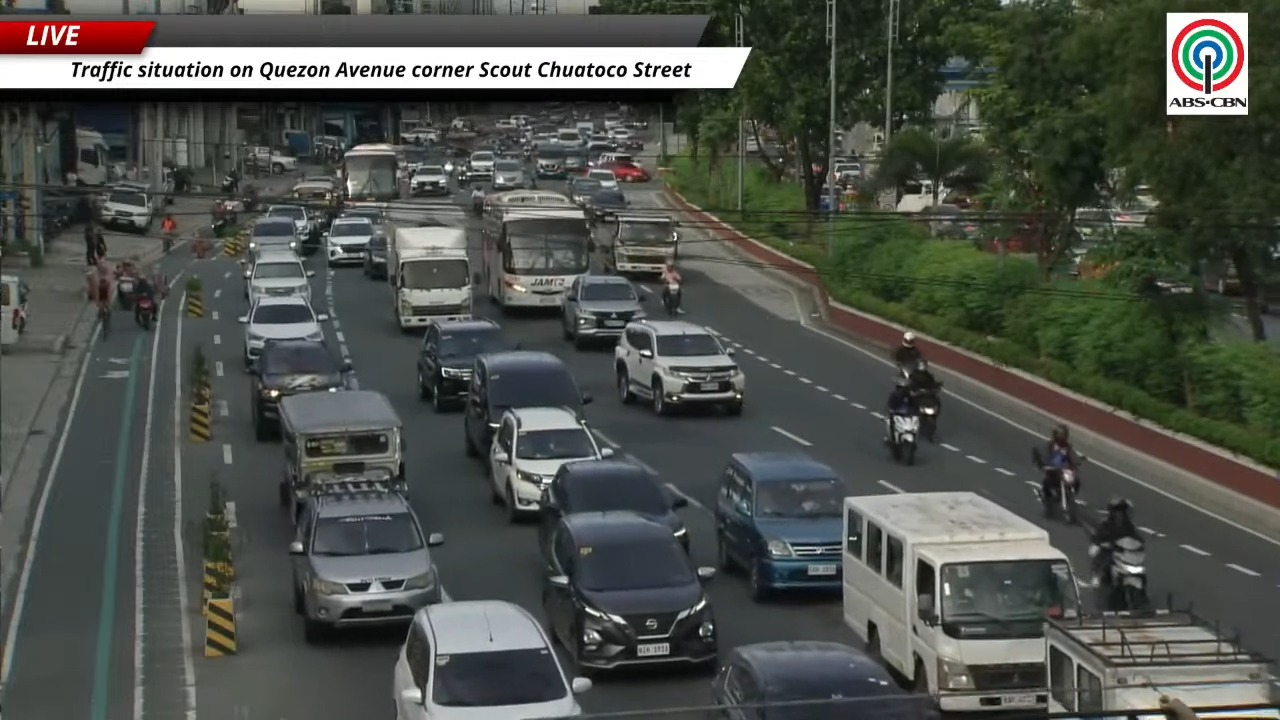bus: (482, 191, 591, 308), (342, 143, 400, 201)
car: (543, 511, 717, 673), (288, 470, 443, 642), (393, 600, 591, 719), (713, 452, 846, 599), (712, 640, 937, 719), (489, 407, 613, 522), (538, 458, 689, 551), (464, 350, 592, 457), (615, 319, 745, 414), (250, 340, 351, 440), (417, 318, 516, 412), (238, 296, 327, 368), (561, 275, 644, 348), (244, 248, 313, 303), (264, 205, 317, 253), (324, 217, 375, 266), (100, 188, 154, 232), (248, 216, 300, 256), (588, 188, 629, 220), (340, 205, 386, 233), (410, 164, 449, 195), (362, 232, 387, 279), (290, 177, 337, 202), (493, 159, 529, 190), (535, 144, 567, 178), (599, 161, 650, 182), (567, 177, 600, 207), (465, 151, 496, 180), (400, 147, 429, 177), (593, 151, 642, 167), (585, 168, 618, 189), (298, 175, 339, 189), (586, 140, 616, 159), (564, 152, 587, 175), (608, 124, 631, 141)
motorcycle: (1100, 536, 1148, 611), (1035, 459, 1077, 524), (887, 410, 919, 465), (915, 390, 939, 442), (116, 274, 135, 310), (662, 282, 681, 316), (135, 296, 154, 330), (210, 216, 229, 237), (221, 173, 239, 192), (471, 193, 485, 216)
truck: (842, 491, 1080, 712), (1045, 609, 1279, 719), (387, 227, 471, 330), (602, 213, 678, 275), (75, 127, 113, 186)
